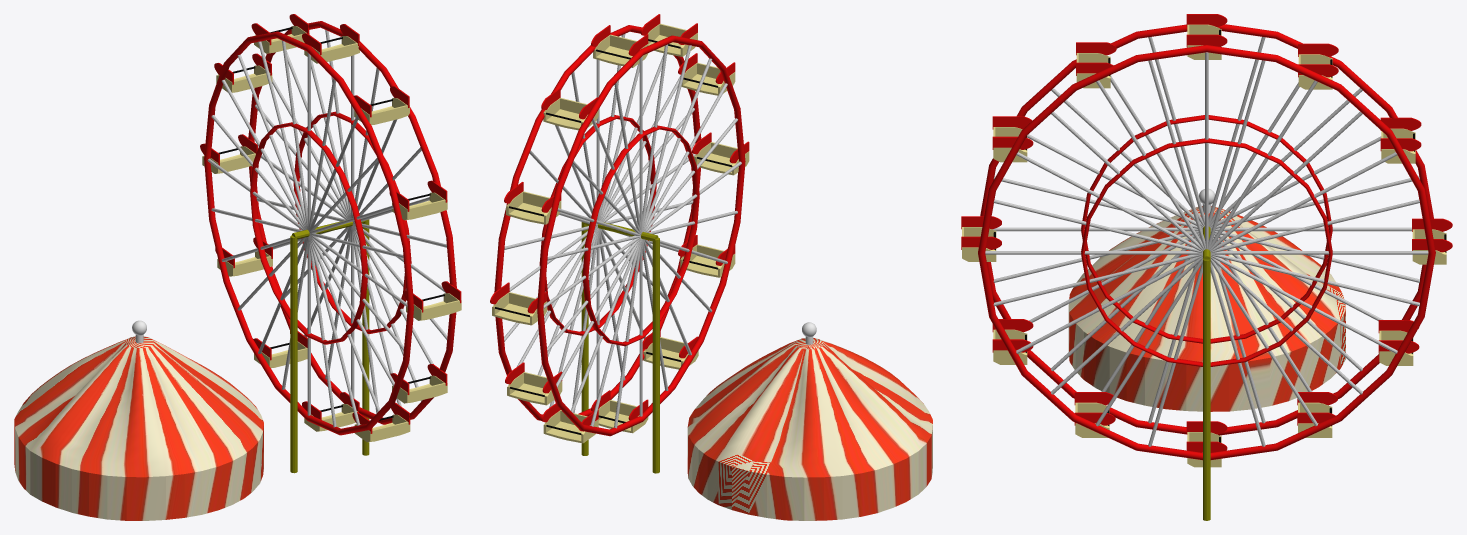
Rendered from Circus.fbx.
The picture shows the model from 3 angles, left to right: view 1: azimuth 30°, elevation 25°; view 2: azimuth 150°, elevation 25°; view 3: azimuth 270°, elevation 25°; orthographic projection. The views are drawn at different scales.
Parts seen in each view (by area): view 1: pCube16, pCylinder32; view 2: pCube16, pCylinder32; view 3: pCube16, pCylinder32.
Part boxes in pixels (x1,y1,x2,y2): pCube16: [200, 14, 461, 473]; pCylinder32: [14, 320, 263, 520]; pCube16: [490, 14, 749, 473]; pCylinder32: [687, 322, 932, 520]; pCube16: [961, 14, 1452, 520]; pCylinder32: [1068, 189, 1345, 411].
Size of the model in its own units: 23.45 by 28.44 by 26.6.
